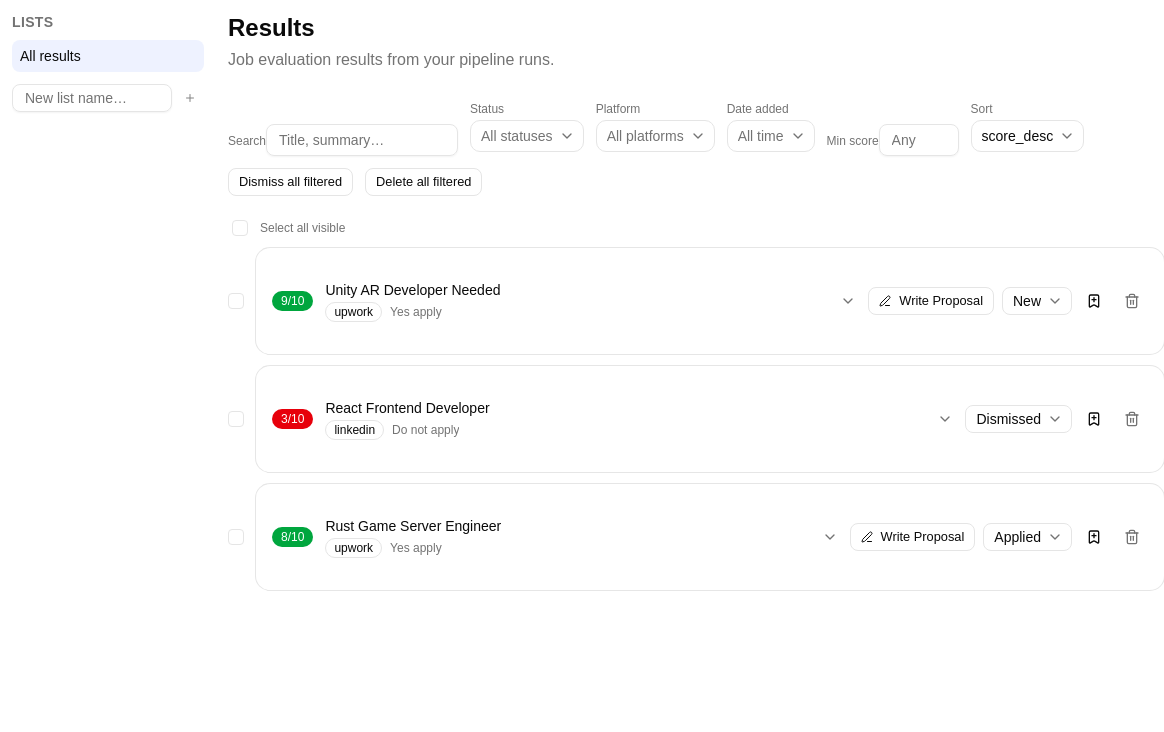
Scenario: ResultsPage › filters by platform
The width and height of the screenshot is (1164, 732).
Expected: the text "Unity AR Developer Needed" is shown, [325,282,500,298]
// Open platform dropdown and select "LinkedIn"
Click the text "All platforms".
click(645, 136)  # box [607,126,684,146]
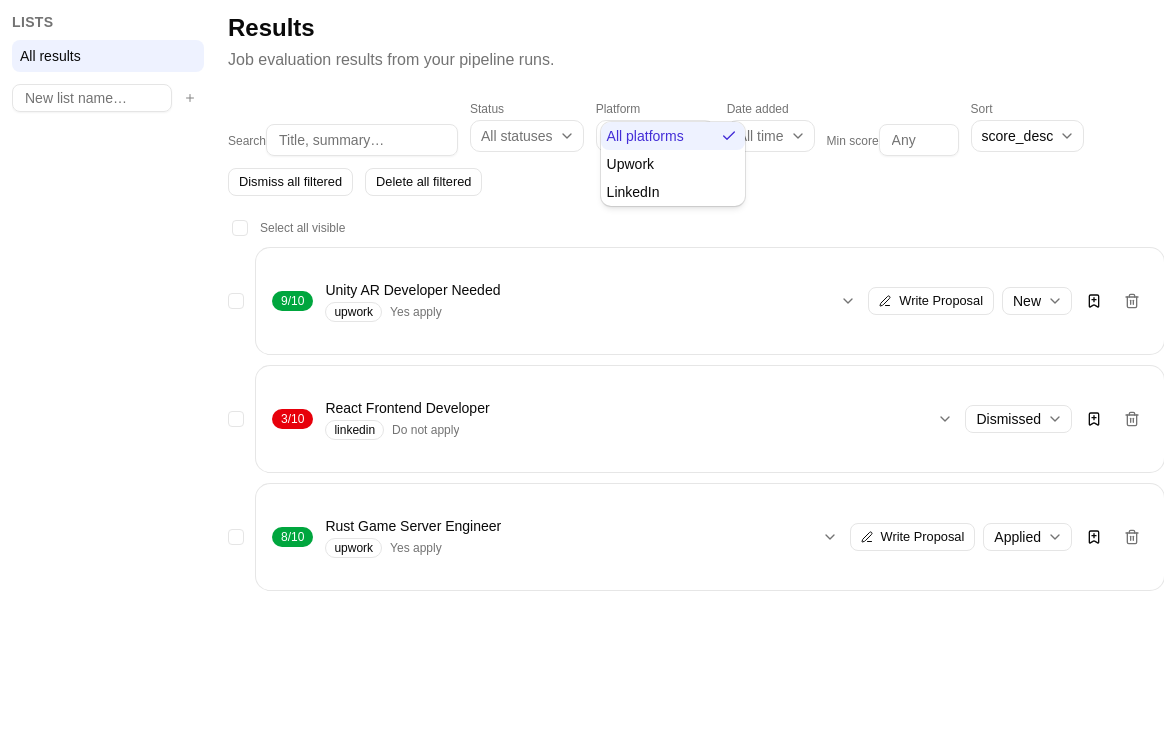
Click the option "LinkedIn".
click(633, 192)  # box [607,184,660,200]
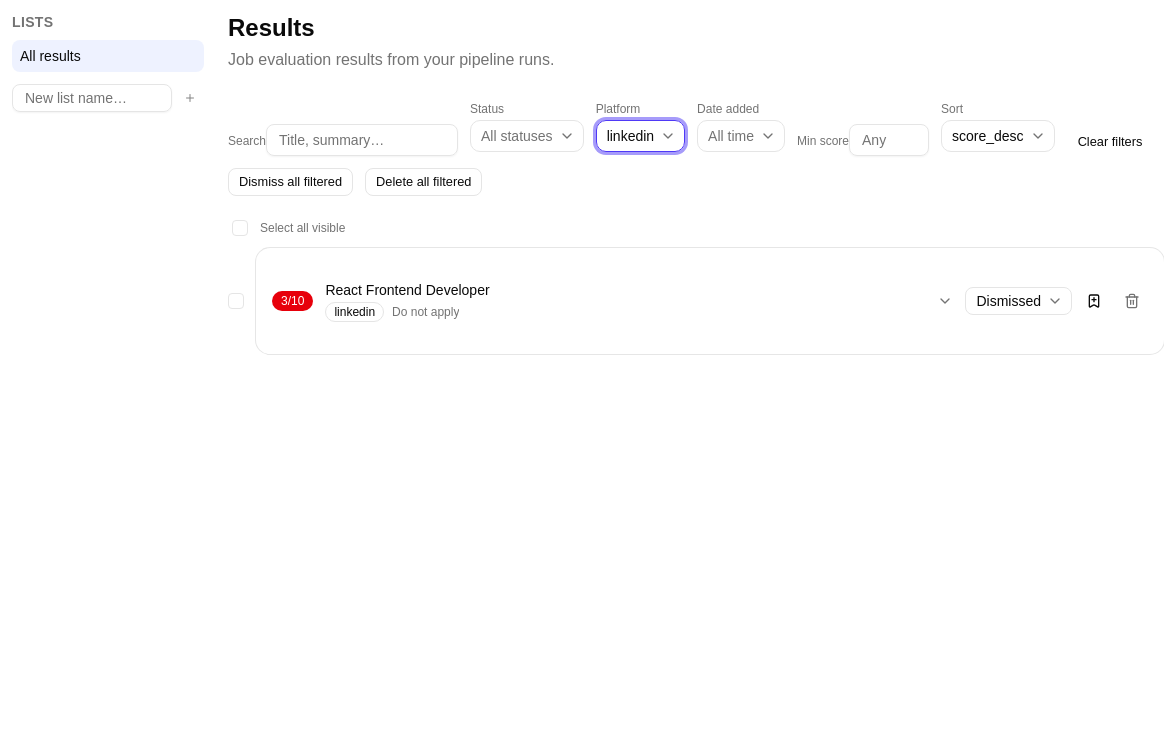
Expected: the text "React Frontend Developer" is shown, [325,282,490,298]
Result: the button "Unity AR Developer Needed" is gone
Result: the button "Rust Game Server Engineer" is gone
